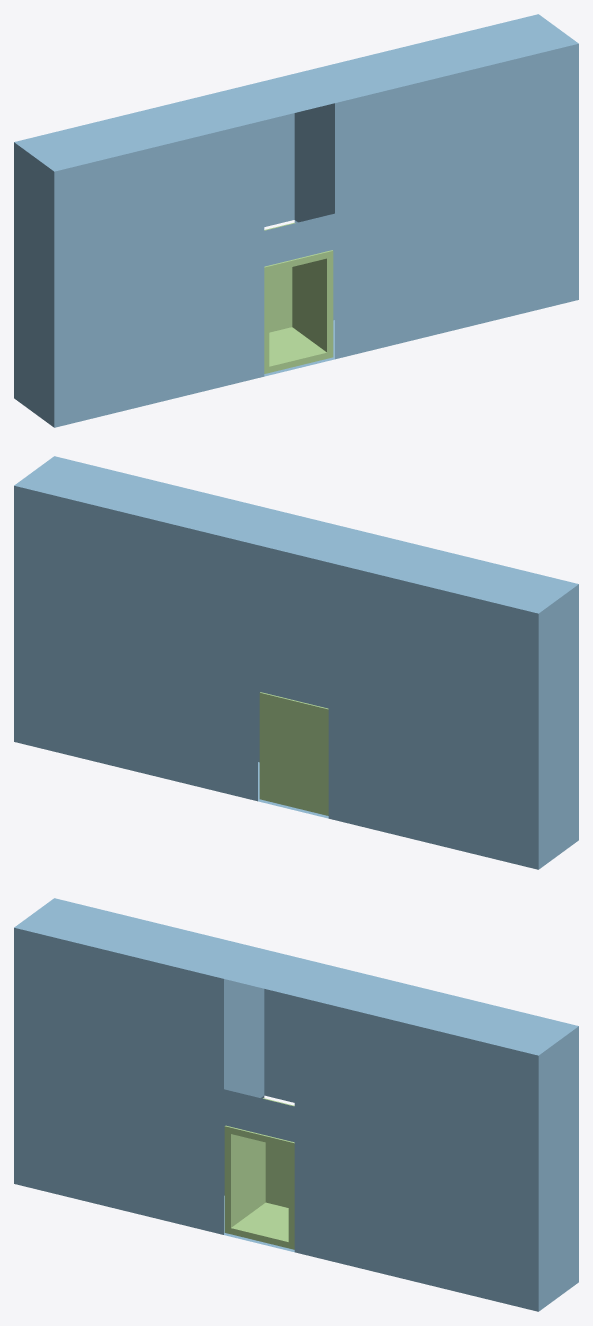
File: BlenderObject.glb
3 renders of one model, top to bottom at view 1: azimuth 30°, elevation 25°; view 2: azimuth 150°, elevation 25°; view 3: azimuth 330°, elevation 25°, orthographic.
Visible parts, largest first — view 1: building, lift; view 2: building, lift; view 3: building, lift.
Boxes of the visible parts, <box> form: building: <box>14,14,578,427</box>; lift: <box>264,222,333,373</box>; building: <box>14,456,578,869</box>; lift: <box>259,692,328,815</box>; building: <box>14,898,578,1311</box>; lift: <box>224,1098,294,1249</box>.
Size of the model in its own units: 15 by 7 by 2.
